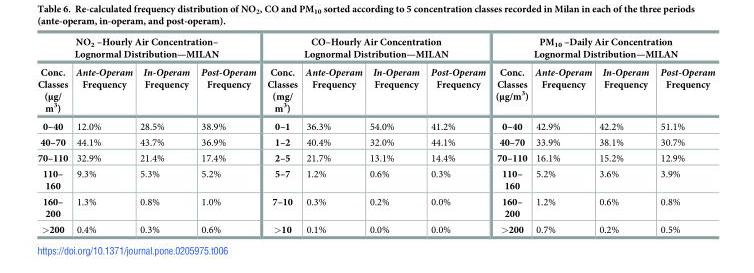table: (36, 36, 714, 234)
table column: (194, 36, 261, 234), (424, 36, 490, 234), (300, 36, 365, 234), (71, 36, 135, 234), (531, 36, 594, 234), (653, 36, 714, 234), (135, 36, 194, 234), (365, 36, 424, 234), (594, 36, 653, 234), (490, 36, 531, 234), (261, 36, 300, 234), (36, 36, 71, 234)
table column header: (36, 36, 714, 117)
table row: (36, 62, 714, 117), (36, 165, 714, 193), (36, 193, 714, 221), (36, 36, 714, 62), (36, 117, 714, 134), (36, 134, 714, 150), (36, 150, 714, 165), (36, 221, 714, 234)
table spanning cell: (261, 36, 490, 62), (36, 36, 261, 62), (490, 36, 714, 62)
